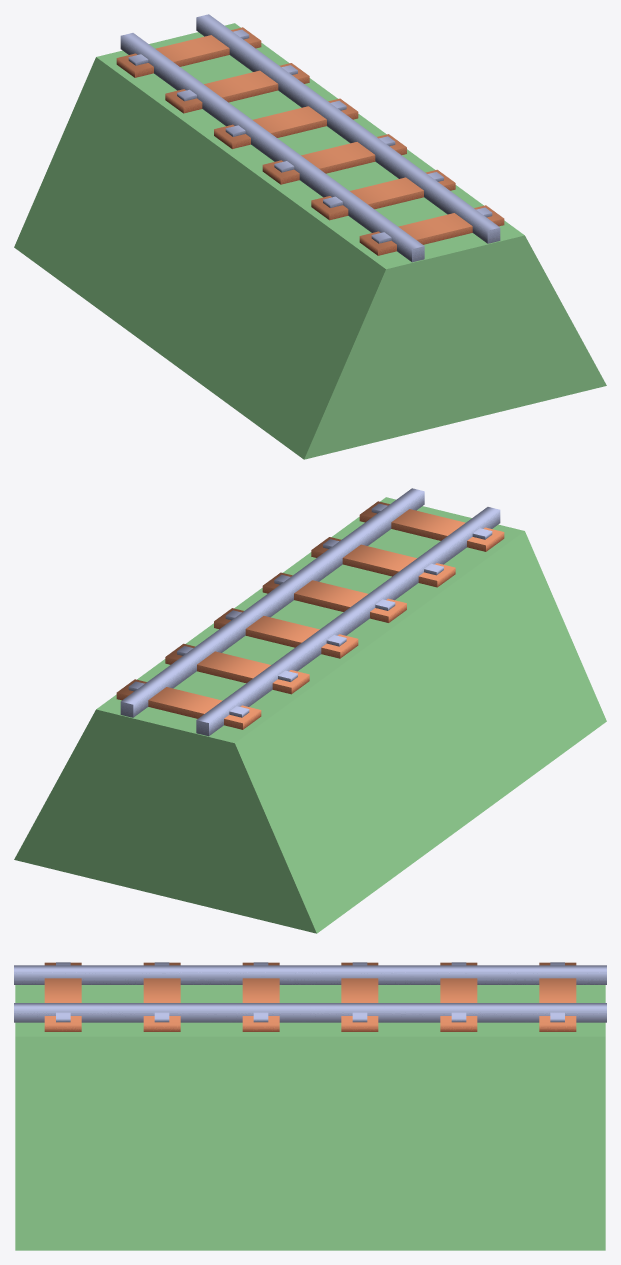
Rendered from hill-hill.glb.
The picture shows the model from 3 angles, top to bottom: view 1: azimuth 30°, elevation 25°; view 2: azimuth 150°, elevation 25°; view 3: azimuth 270°, elevation 25°; orthographic projection.
Parts seen in each view (by area): view 1: hill_crest_mound, hill_crest_rails; view 2: hill_crest_mound, hill_crest_rails; view 3: hill_crest_mound, hill_crest_rails.
Boxes of the visible parts, <box> form: hill_crest_mound: <box>14,23,606,459</box>; hill_crest_rails: <box>116,14,504,262</box>; hill_crest_mound: <box>14,497,606,933</box>; hill_crest_rails: <box>116,488,504,736</box>; hill_crest_mound: <box>15,985,605,1250</box>; hill_crest_rails: <box>14,962,606,1031</box>.
Size of the model in its own units: 2.4 by 1.4 by 4.
2 materials, 1 textured.
